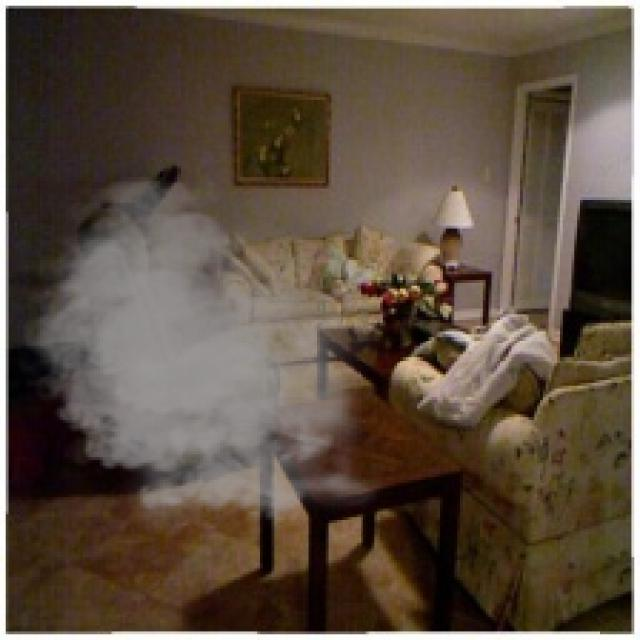smoke: (11, 166, 392, 537)
